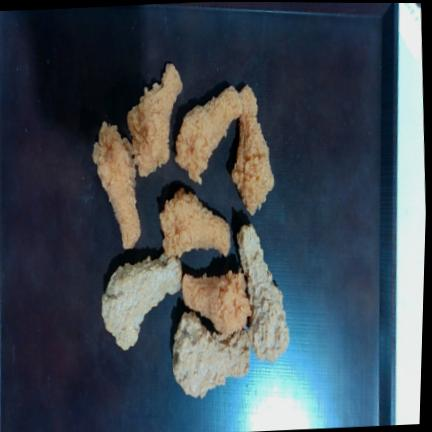chicken: (102, 254, 182, 350), (237, 224, 289, 361), (176, 86, 243, 184), (173, 312, 250, 397), (128, 63, 182, 176), (93, 122, 140, 248), (232, 85, 274, 215), (160, 188, 231, 257), (182, 270, 251, 335)
